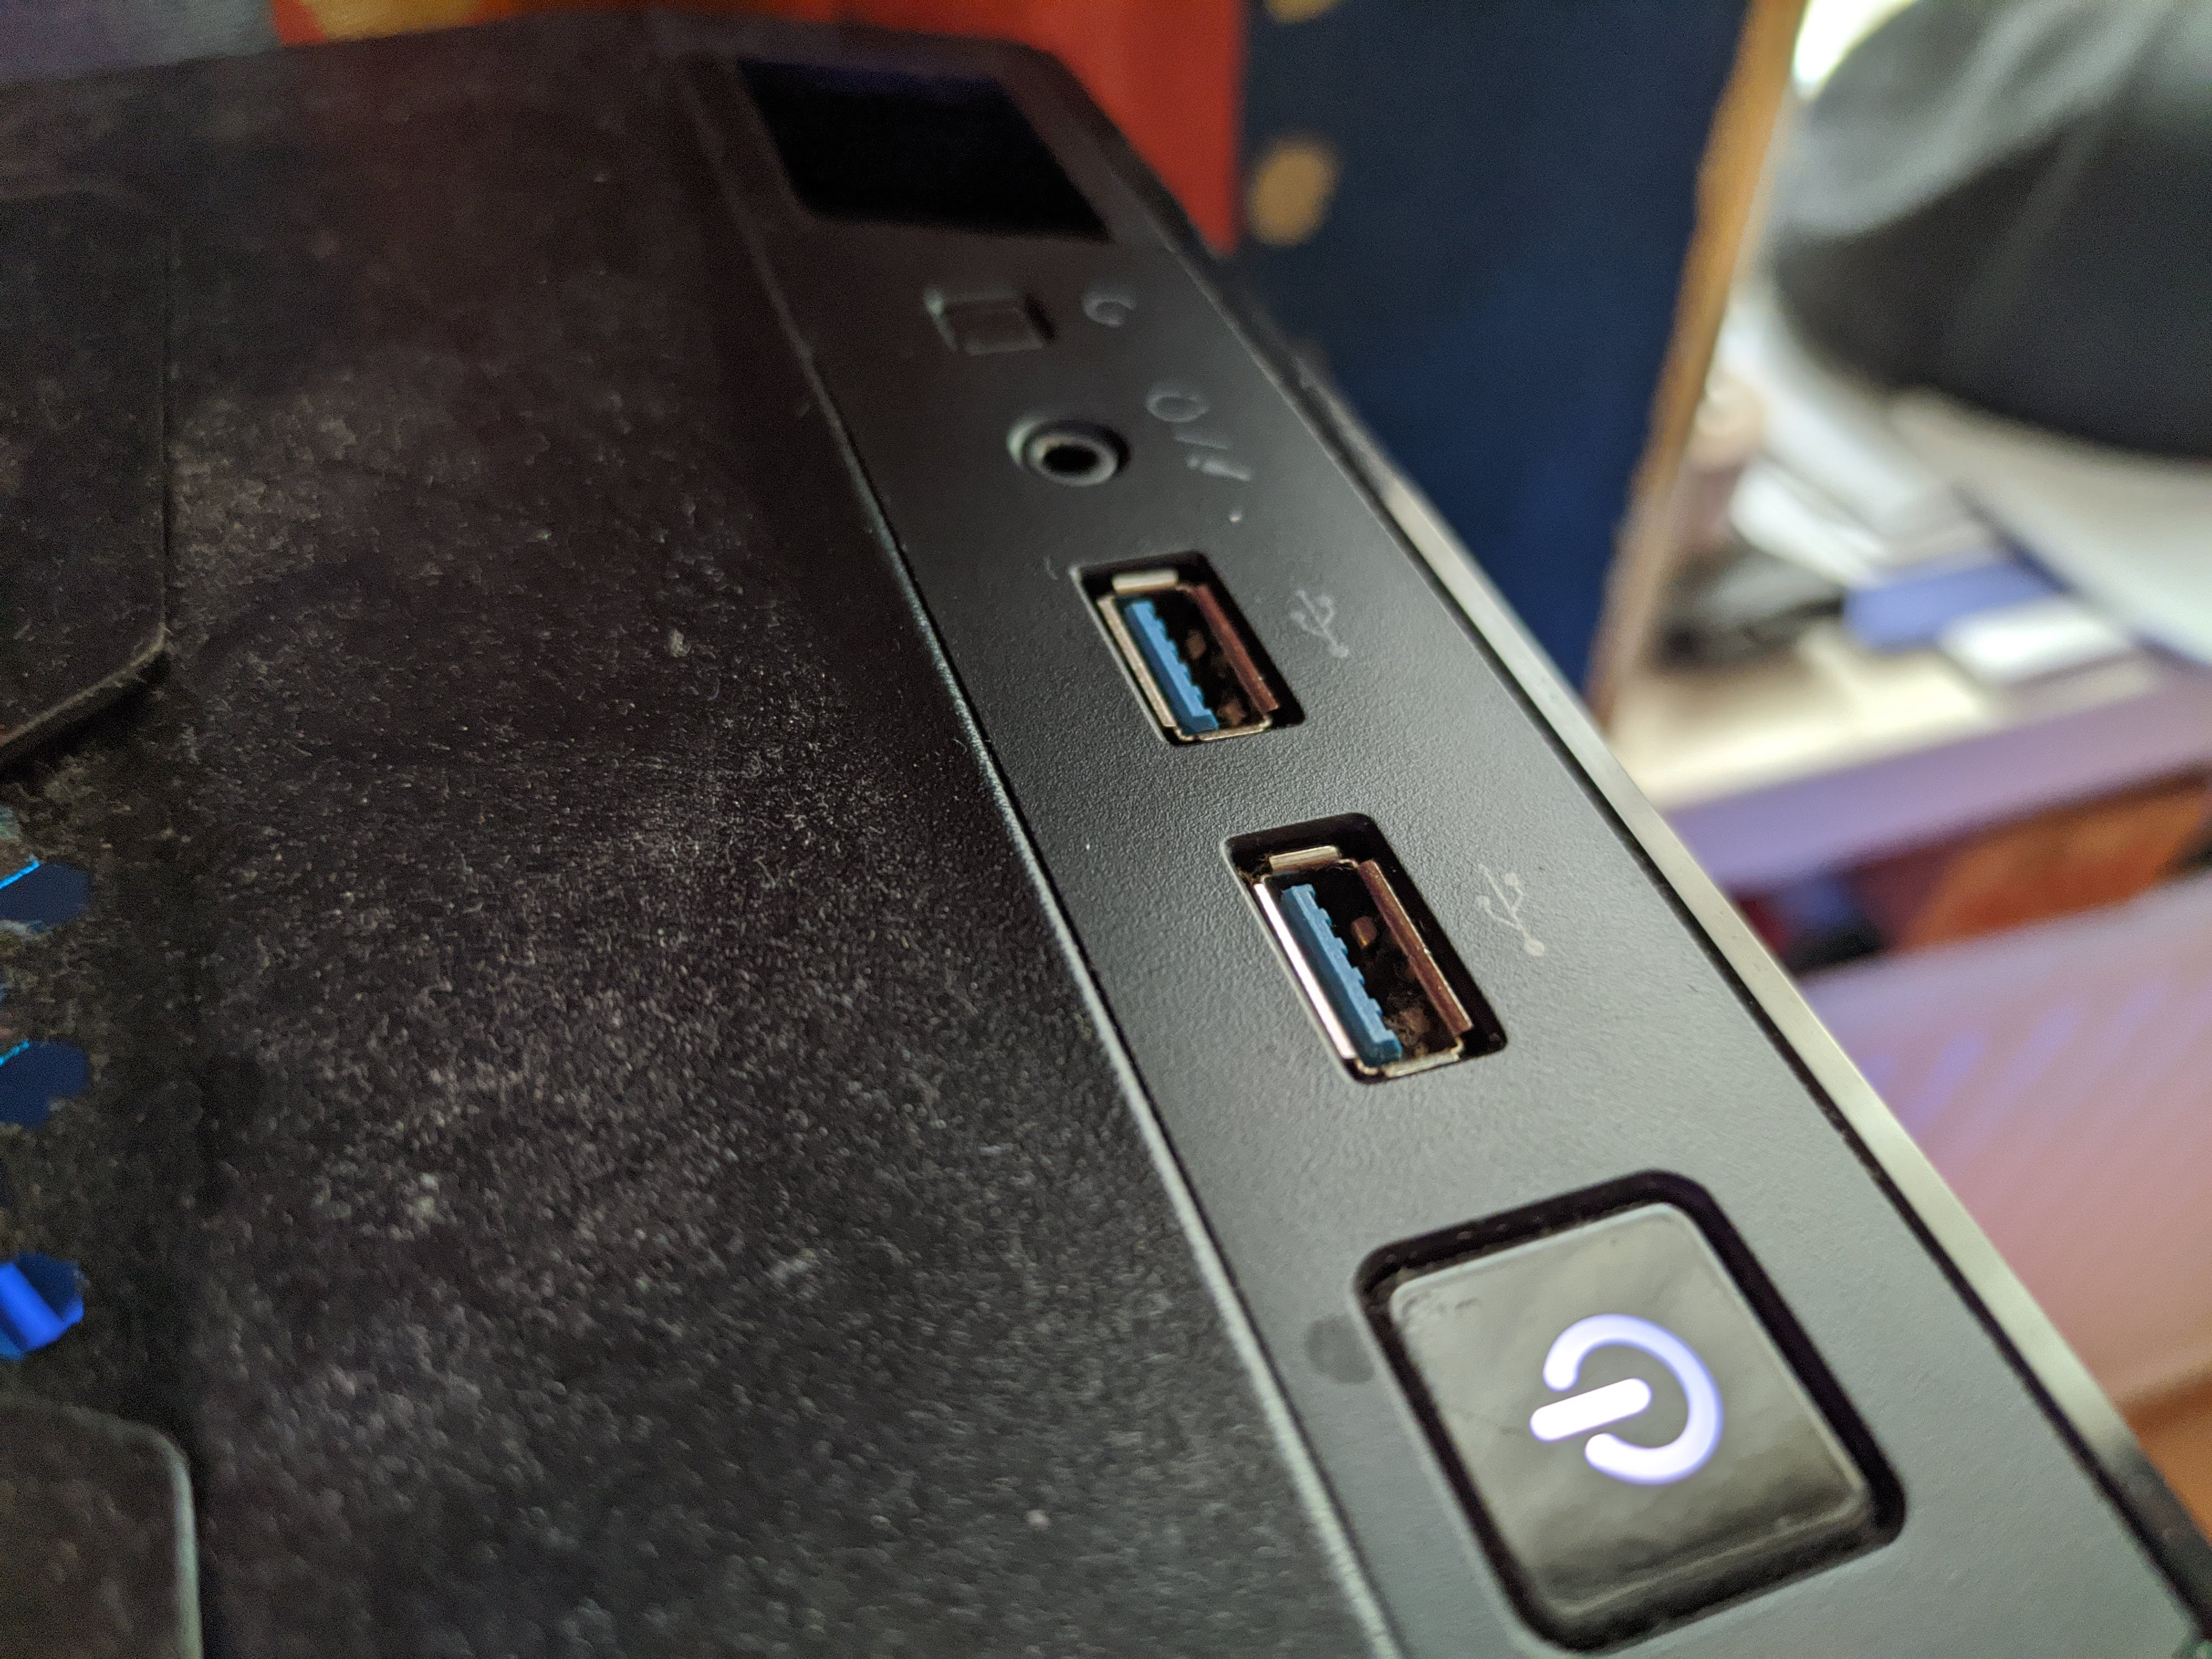usbport_in: (1230, 828, 1491, 1084), (1078, 549, 1289, 746)
